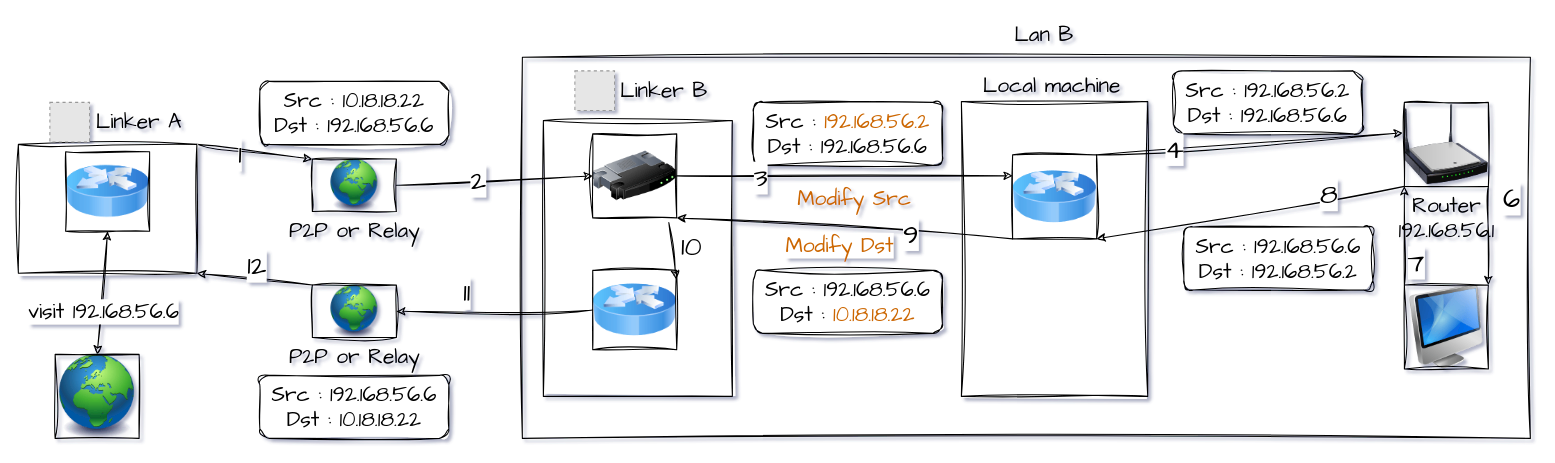
Some shapes in this 1555 by 463 pixel diagram are drawn without their labels. Grey dashed boxes stand in for pictures. Here are the shapes that lost their labels. From the top down, the centre of each, then its label:
At (x=107, y=191): "tun : 10.18.18.22".
At (x=634, y=175): "SNAT".
At (x=1054, y=196): "Interface 192.168.56.2".
At (x=634, y=309): "tun : 10.18.18.23".
At (x=1446, y=327): "Lan machine 192.168.56.6".
